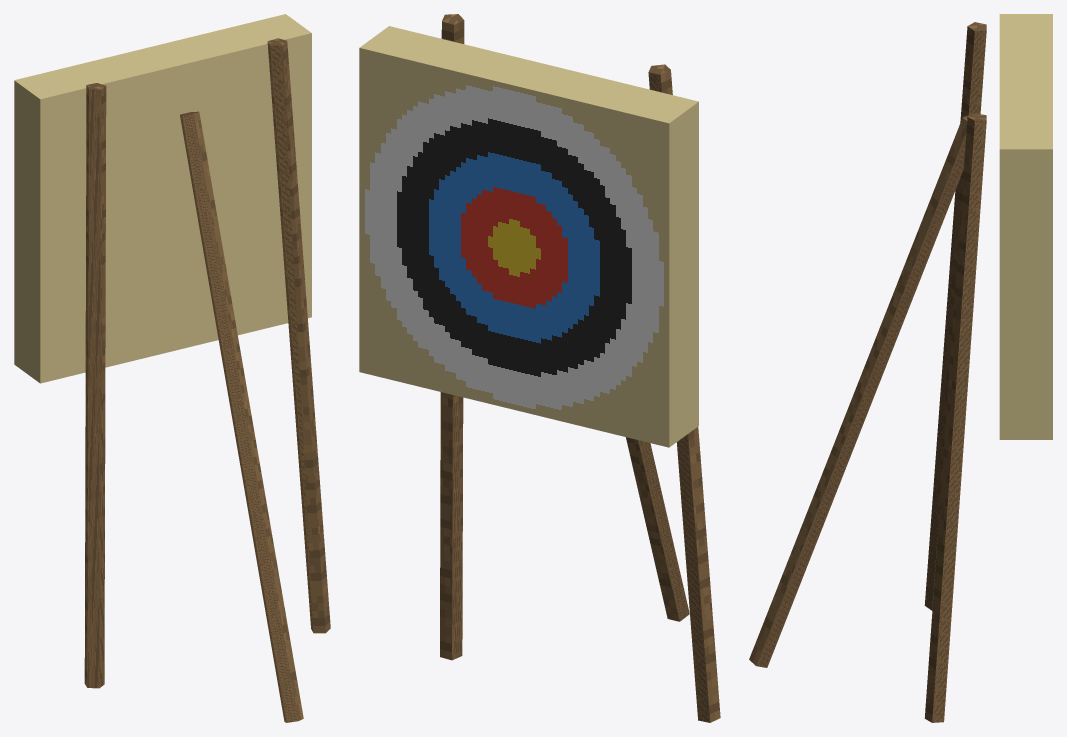
File: tr_practice_target.glb
The picture shows the model from 3 angles, left to right: view 1: azimuth 30°, elevation 25°; view 2: azimuth 150°, elevation 25°; view 3: azimuth 270°, elevation 25°; orthographic projection. The views are drawn at different scales.
Visible parts, largest first — view 1: block_target boss, block_stand leg (×2), block_back leg; view 2: block_target boss, block_stand leg (×2), block_back leg; view 3: block_target boss, block_stand leg (×2), block_back leg.
Boxes of the visible parts, left/top/right/bottom form: block_target boss: left=14, top=14, right=311, bottom=383; block_stand leg (×2): left=84, top=38, right=330, bottom=688; block_back leg: left=180, top=111, right=303, bottom=722; block_target boss: left=359, top=26, right=698, bottom=447; block_stand leg (×2): left=440, top=14, right=720, bottom=722; block_back leg: left=626, top=437, right=689, bottom=621; block_target boss: left=999, top=14, right=1052, bottom=439; block_stand leg (×2): left=924, top=22, right=986, bottom=722; block_back leg: left=749, top=115, right=969, bottom=667.
Size of the model in its own units: 0.6 by 1.23 by 0.5688.
Materials: 1 (1 with a texture image).
